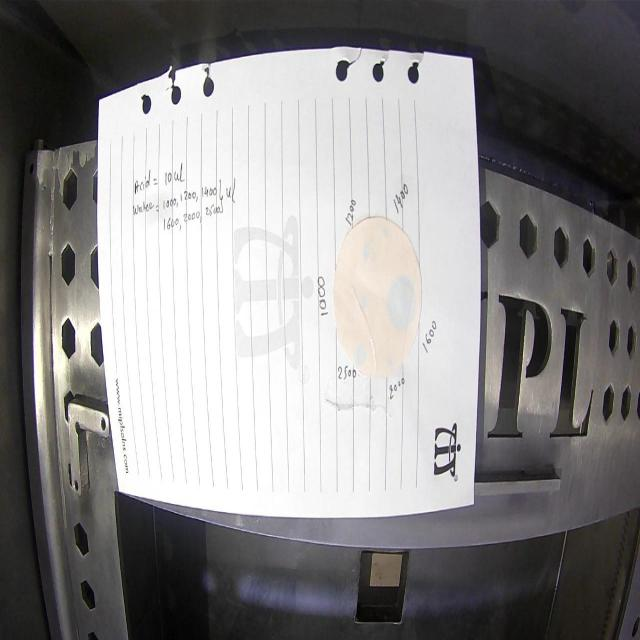BlueColor: (386, 275, 416, 332), (353, 344, 366, 366), (387, 354, 396, 371), (359, 293, 367, 312), (363, 244, 370, 260), (382, 225, 388, 237)
